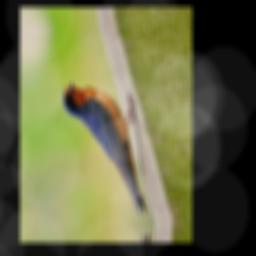Swallow: (57, 67, 155, 228)
